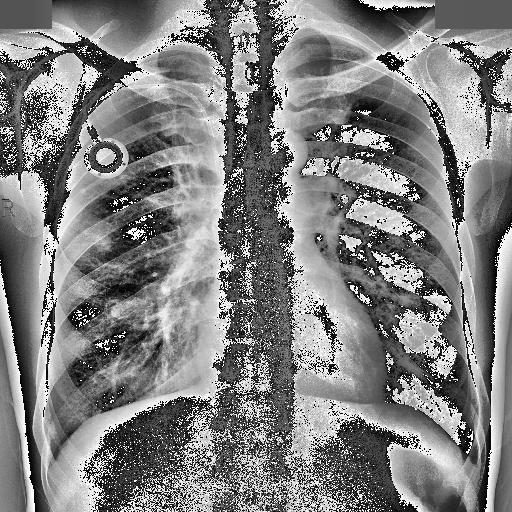10- Pleural effusion: (454, 448, 482, 473), (43, 446, 63, 473)
11- Pleural thickening: (454, 448, 482, 473), (43, 446, 63, 473)
8- Nodule-Mass: (93, 232, 113, 252), (79, 188, 86, 195), (77, 188, 85, 194)
